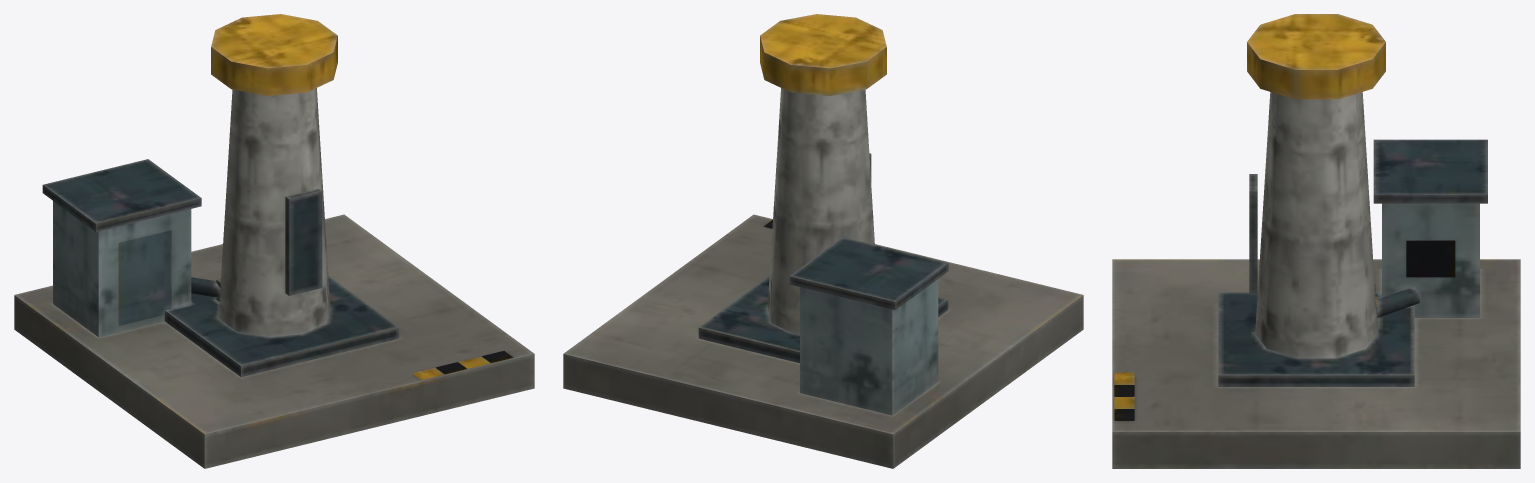
The model's file is radar_base.glb.
3 renders of one model, left to right at view 1: azimuth 30°, elevation 25°; view 2: azimuth 150°, elevation 25°; view 3: azimuth 270°, elevation 25°, orthographic. The views are drawn at different scales.
Visible parts, largest first — view 1: te_perimeter_radar_base; view 2: te_perimeter_radar_base; view 3: te_perimeter_radar_base.
Part boxes in pixels (x1,y1,x2,y2): te_perimeter_radar_base: (14,14,534,468); te_perimeter_radar_base: (563,14,1083,468); te_perimeter_radar_base: (1112,14,1520,468).
Size of the model in its own units: 0.5 by 0.46 by 0.5.
1 material, 1 textured.
